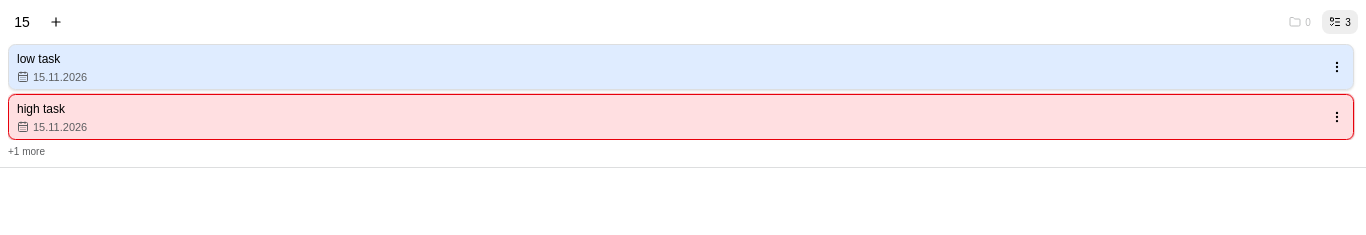
Scenario: CalendarDayCell › collapses overflowing items and expands them on demand
Expected: the text "medium task" is not shown
Click the button with aria-label "Show 1 more item": (11, 152) [8,144,1358,159]
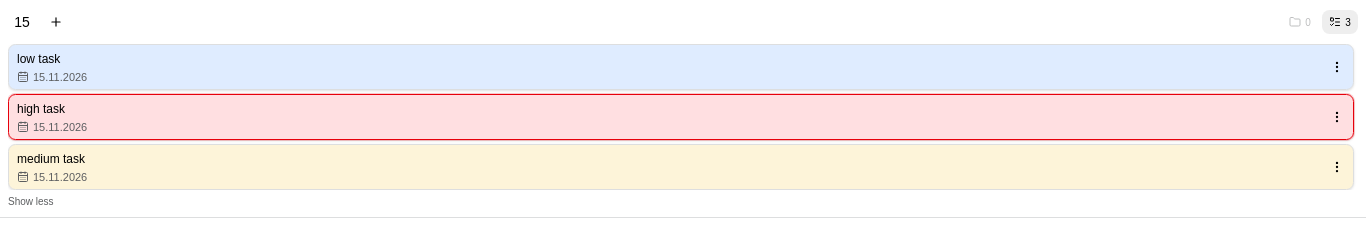
Now the text "medium task" is shown, box [17,152,85,166]
